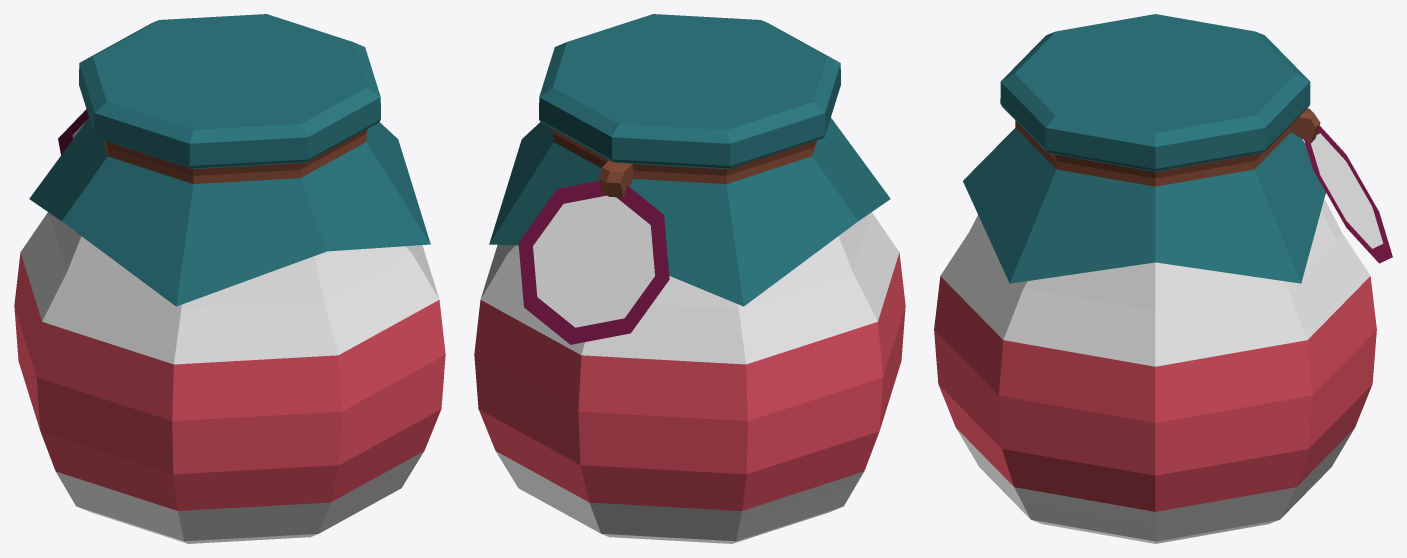
File: Potion.FrootSquish.s.fbx
3 renders of one model, left to right at view 1: azimuth 30°, elevation 25°; view 2: azimuth 150°, elevation 25°; view 3: azimuth 270°, elevation 25°, orthographic.
Parts seen in each view (by area): view 1: Potion.FrootSquish.s; view 2: Potion.FrootSquish.s; view 3: Potion.FrootSquish.s.
Part boxes in pixels (bbox=[...]): Potion.FrootSquish.s: bbox=[14, 14, 445, 543]; Potion.FrootSquish.s: bbox=[474, 14, 905, 543]; Potion.FrootSquish.s: bbox=[934, 14, 1392, 543].
Bounding box in the file's own units: 52.46 × 52.63 × 54.36.
